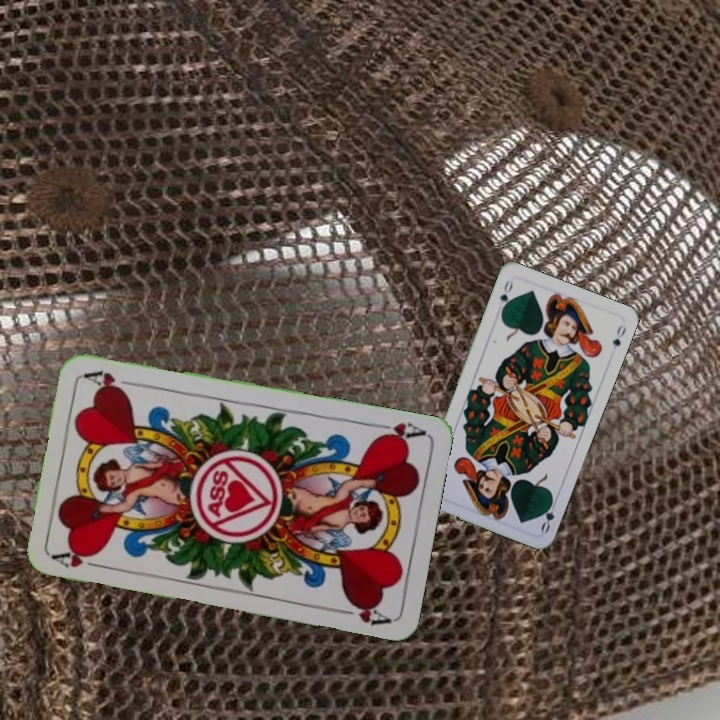GO: (537, 494, 560, 535), (495, 276, 516, 316)
HA: (368, 418, 428, 445), (49, 544, 108, 571)
